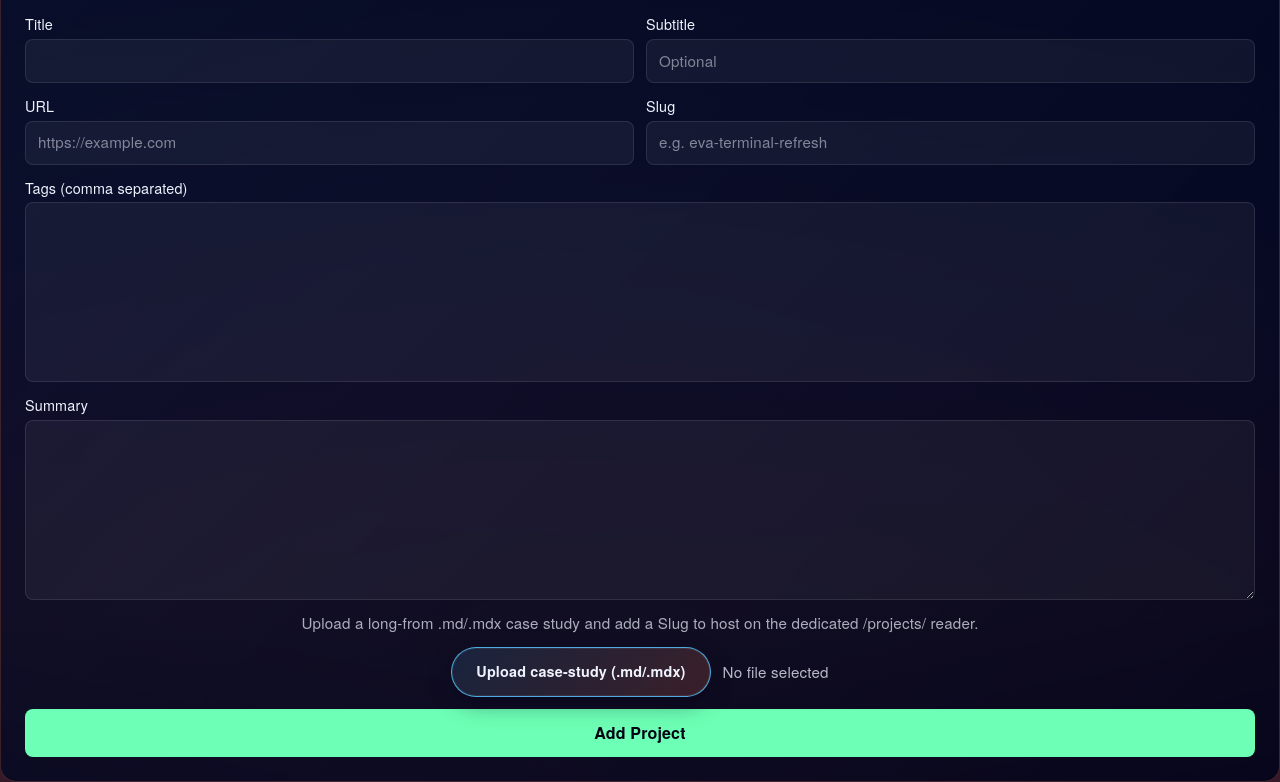
it: Admin projects + reel managers › shows an error when adding a project without a title
(page scrolled)
Click the button "Add Project": (640, 734) 25,710 -> 1255,758
(page scrolled)
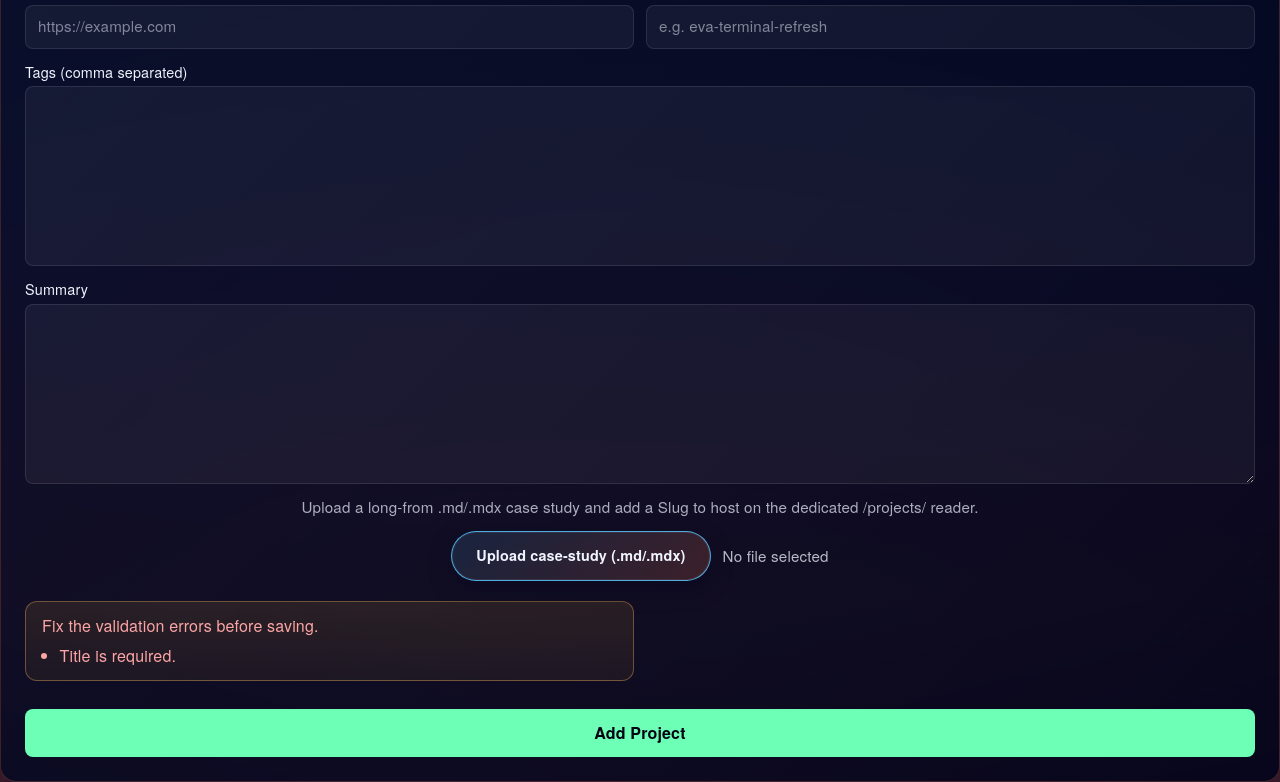
Result: the text "Fix the validation errors before saving." is shown at 42,614 -> 319,638
Result: the list item "Title is required." is shown at 60,644 -> 176,667
